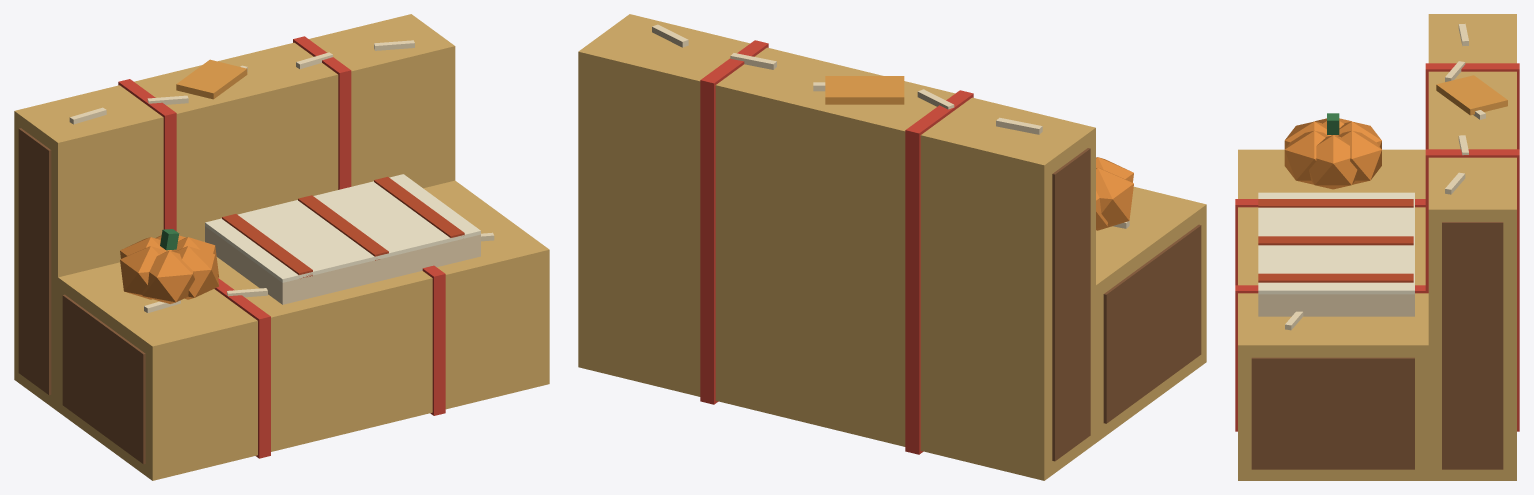
File: CatCafe_Decor_HayBaleSofa.glb
The picture shows the model from 3 angles, left to right: view 1: azimuth 30°, elevation 25°; view 2: azimuth 150°, elevation 25°; view 3: azimuth 270°, elevation 25°; orthographic projection. The views are drawn at different scales.
Parts seen in each view (by area): view 1: CatCafe_Decor_HayBaleSofa; view 2: CatCafe_Decor_HayBaleSofa; view 3: CatCafe_Decor_HayBaleSofa.
Part boxes in pixels (left/top/right/bottom): CatCafe_Decor_HayBaleSofa: left=14, top=14, right=549, bottom=480; CatCafe_Decor_HayBaleSofa: left=578, top=14, right=1206, bottom=480; CatCafe_Decor_HayBaleSofa: left=1235, top=14, right=1519, bottom=480.
Size of the model in its own units: 3.44 by 2.29 by 2.09.
Materials: 1 (1 with a texture image).
